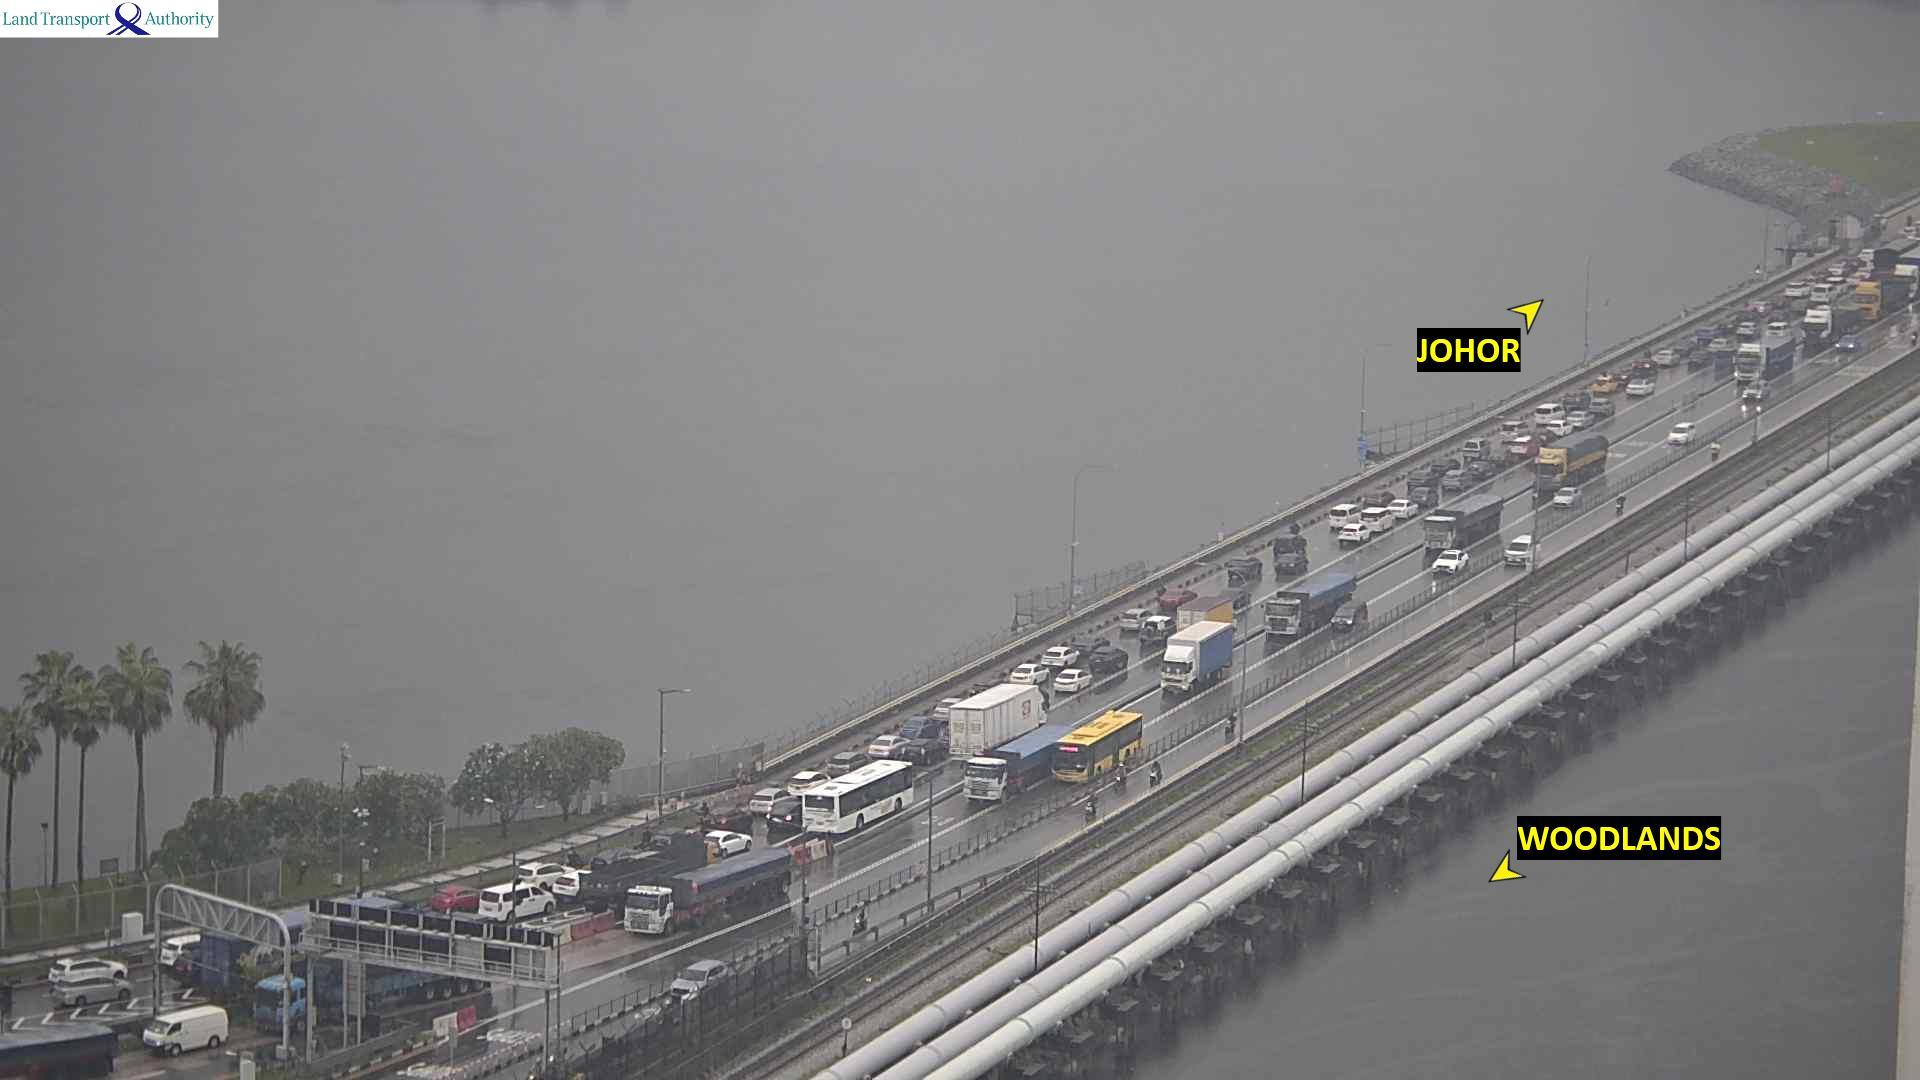vehicle-causeway-johor: (200, 910, 305, 994), (803, 762, 913, 835), (949, 686, 1039, 754), (476, 884, 556, 919), (55, 978, 132, 1007), (45, 956, 117, 984), (1176, 599, 1233, 632), (518, 865, 583, 890), (1138, 616, 1176, 649), (518, 862, 576, 884), (161, 934, 199, 964), (553, 872, 593, 899), (1275, 541, 1309, 572), (786, 771, 832, 794), (707, 832, 750, 855), (749, 789, 790, 812), (767, 803, 802, 831), (434, 886, 479, 907), (874, 733, 914, 757), (1160, 585, 1197, 611), (1091, 646, 1127, 671), (1042, 642, 1080, 666), (1230, 560, 1267, 584), (794, 770, 844, 787), (865, 736, 903, 758), (1017, 662, 1056, 683), (1505, 425, 1543, 446), (828, 752, 866, 773), (1360, 508, 1391, 533), (1054, 670, 1091, 691), (1329, 504, 1360, 529), (1121, 609, 1153, 633), (1338, 525, 1370, 549), (901, 716, 938, 736), (177, 952, 200, 982), (1577, 401, 1611, 421), (1218, 587, 1250, 608), (1406, 475, 1439, 495), (1062, 637, 1110, 650), (1435, 456, 1468, 475), (1441, 472, 1472, 492), (1697, 324, 1727, 344), (934, 698, 961, 719), (1387, 500, 1418, 518), (1536, 404, 1564, 423), (1626, 378, 1654, 398), (1590, 373, 1617, 393), (1364, 491, 1395, 505), (1462, 442, 1490, 458), (1809, 285, 1834, 302), (1468, 462, 1494, 477), (1654, 351, 1681, 364), (1568, 413, 1593, 427), (1825, 277, 1847, 293), (1709, 339, 1735, 352), (1745, 302, 1771, 315), (1785, 282, 1809, 297), (1768, 322, 1792, 336), (1689, 351, 1710, 367), (1737, 323, 1758, 338), (1633, 360, 1655, 373), (1828, 264, 1849, 274), (1859, 249, 1874, 258)
vehicle-causeway-singapore: (258, 959, 491, 1033), (615, 856, 782, 942), (963, 728, 1072, 802), (1054, 712, 1143, 782), (1263, 575, 1356, 641), (0, 1029, 116, 1080), (1160, 625, 1234, 688), (1424, 497, 1502, 553), (142, 1005, 225, 1055), (1536, 435, 1610, 476), (673, 964, 738, 1005), (1801, 303, 1866, 344), (1731, 342, 1795, 380), (1873, 239, 1920, 281), (1857, 281, 1911, 316), (1428, 550, 1469, 580), (1331, 601, 1367, 632), (1505, 535, 1531, 566), (1743, 381, 1768, 404), (1553, 488, 1581, 508), (1669, 422, 1695, 443), (1837, 334, 1859, 351), (855, 906, 868, 935), (1087, 794, 1097, 822), (1114, 762, 1126, 785), (1150, 761, 1162, 782), (1710, 438, 1721, 459), (1615, 493, 1625, 512), (1228, 713, 1236, 733)
